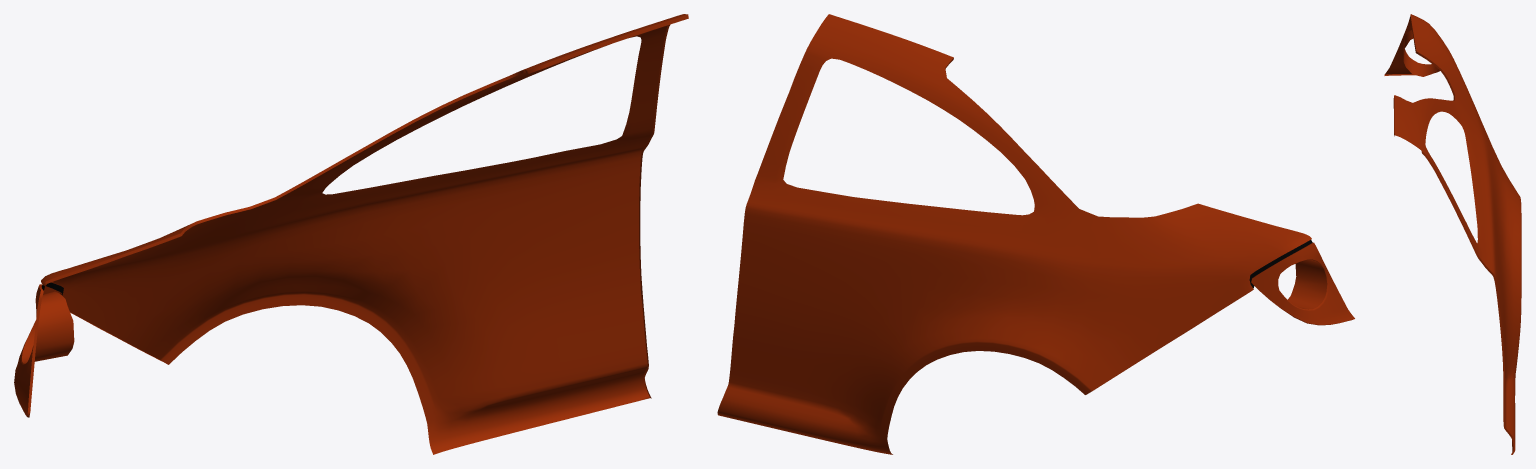
3 views of the same model, side by side, from view 1: azimuth 30°, elevation 25°; view 2: azimuth 150°, elevation 25°; view 3: azimuth 270°, elevation 25° (orthographic). The views are drawn at different scales.
Visible parts, largest first — view 1: U236_17_381B_L_1_DaS_U236_17_381B_L, U236_17_381B_L_1_DaS_U236_17_381B_L_E; view 2: U236_17_381B_L_1_DaS_U236_17_381B_L, U236_17_381B_L_1_DaS_U236_17_381B_L_E; view 3: U236_17_381B_L_1_DaS_U236_17_381B_L, U236_17_381B_L_1_DaS_U236_17_381B_L_E.
Part boxes in pixels (<box>): U236_17_381B_L_1_DaS_U236_17_381B_L: <box>14,14,687,454</box>; U236_17_381B_L_1_DaS_U236_17_381B_L_E: <box>22,14,688,417</box>; U236_17_381B_L_1_DaS_U236_17_381B_L: <box>717,14,1354,454</box>; U236_17_381B_L_1_DaS_U236_17_381B_L_E: <box>945,58,1351,330</box>; U236_17_381B_L_1_DaS_U236_17_381B_L: <box>1386,14,1521,451</box>; U236_17_381B_L_1_DaS_U236_17_381B_L_E: <box>1384,15,1515,454</box>.
Size of the model in its own units: 177 by 108 by 44.44.
